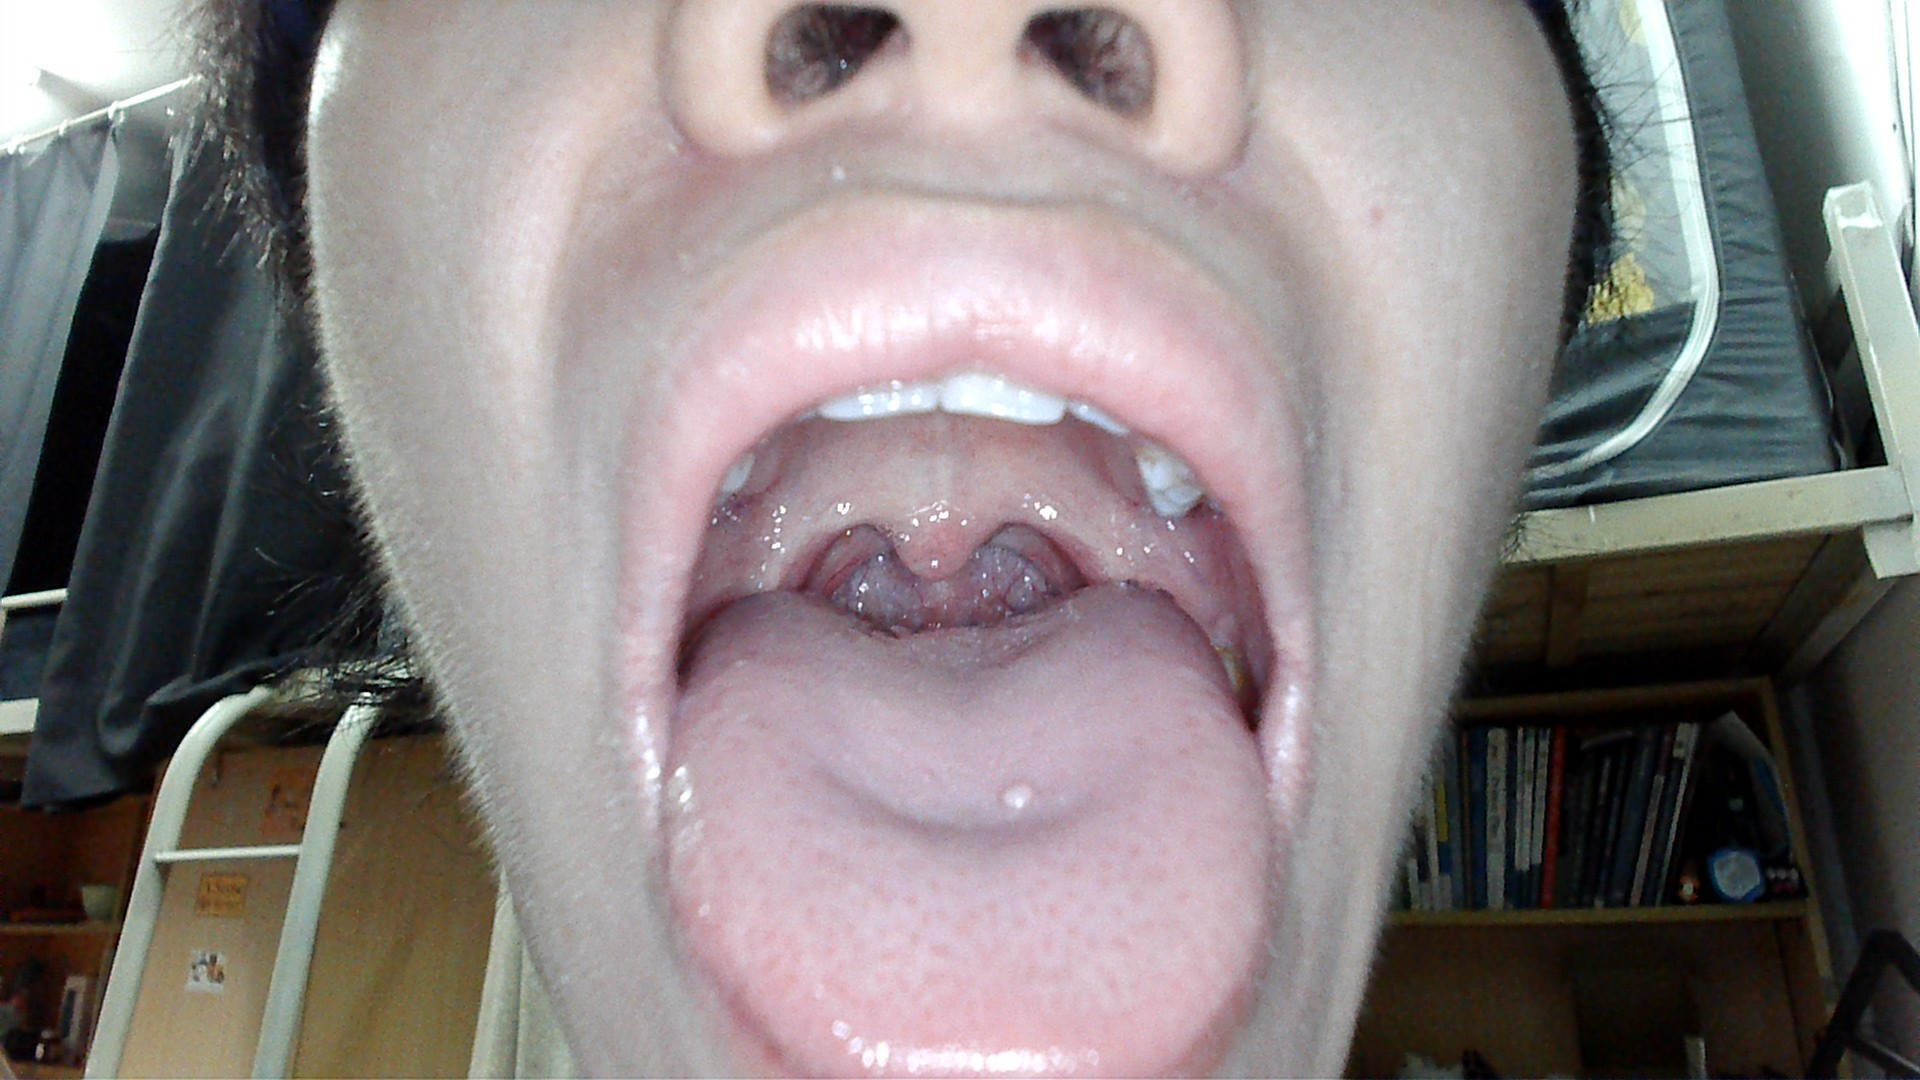throat: (750, 492, 866, 592), (1010, 468, 1106, 584)
